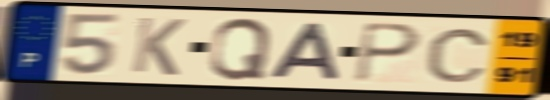5: (61, 12, 125, 77)
A: (267, 21, 345, 83)
C: (424, 26, 493, 85)
K: (128, 15, 189, 78)
P: (353, 20, 424, 85)
Q: (206, 16, 274, 82)
